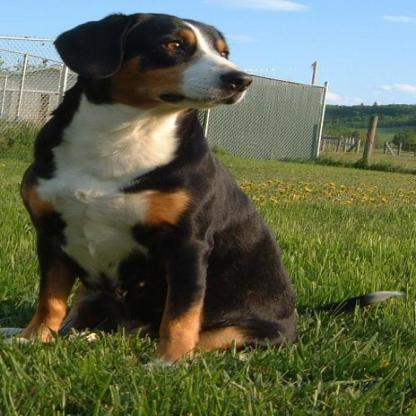EntleBucher: (12, 5, 404, 370)
